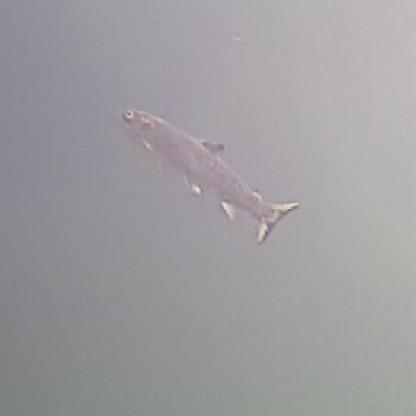salmon: (112, 102, 302, 244)
